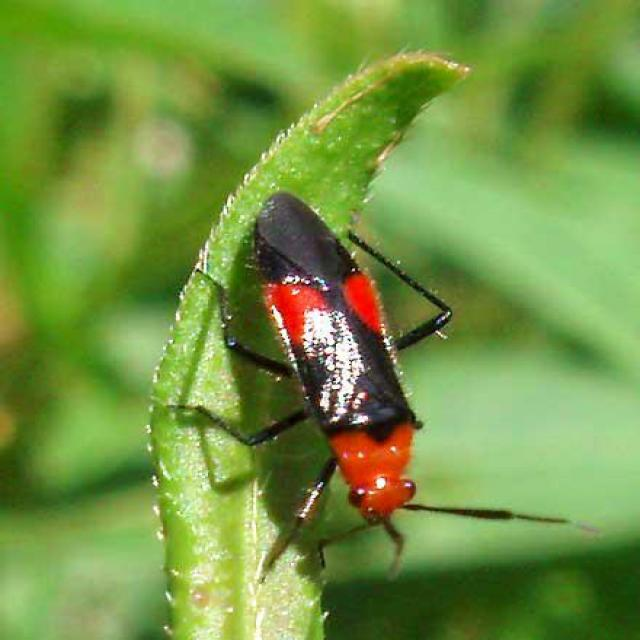Miridae-Adult-: (144, 184, 588, 581)
